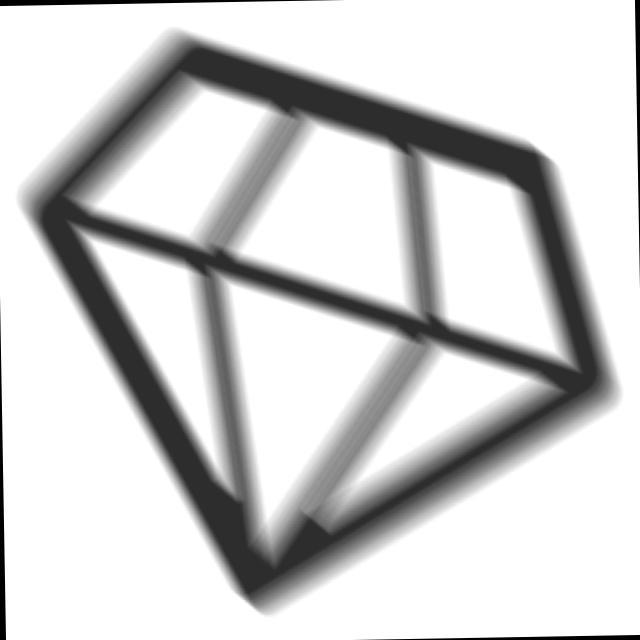diamond: (1, 6, 640, 639)
